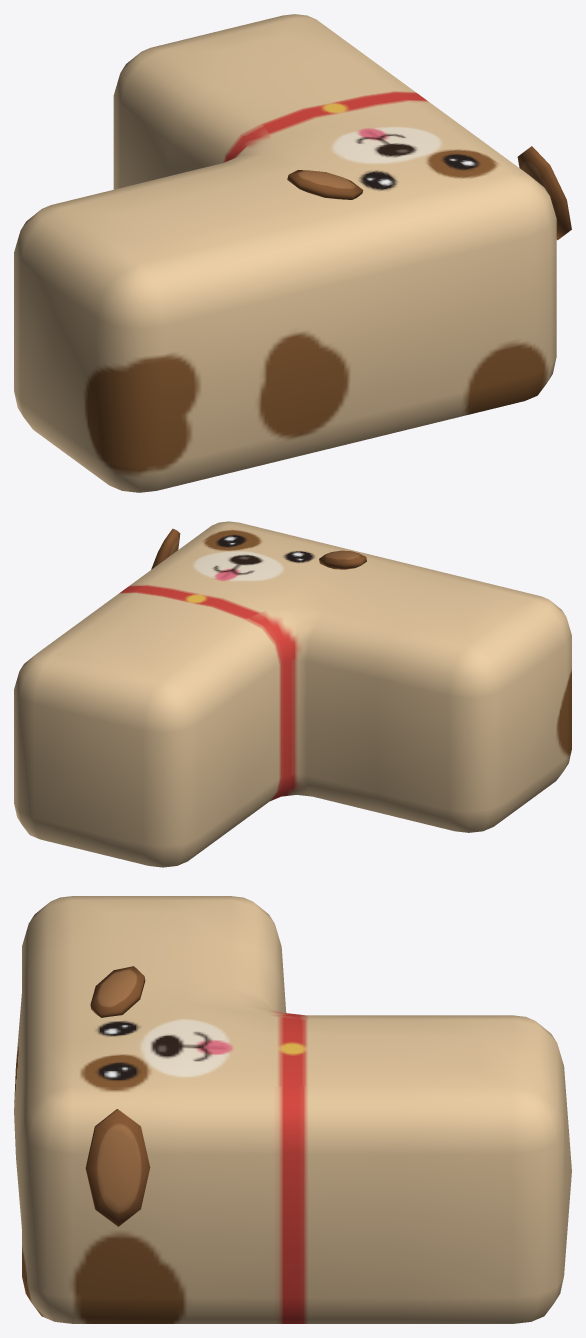
Rendered from Dog_Corner.fbx.
3 views of the same model, one above another, from view 1: azimuth 30°, elevation 25°; view 2: azimuth 150°, elevation 25°; view 3: azimuth 270°, elevation 25° (orthographic). The views are drawn at different scales.
Parts seen in each view (by area): view 1: Dog_Corner; view 2: Dog_Corner; view 3: Dog_Corner.
Part boxes in pixels (x1=…): Dog_Corner: x1=14, y1=14, x2=571, y2=492; Dog_Corner: x1=14, y1=521, x2=571, y2=867; Dog_Corner: x1=14, y1=896, x2=571, y2=1323.
Bounding box in the file's own units: 2.09 × 0.9674 × 1.98.
Materials: 1 (1 with a texture image).
